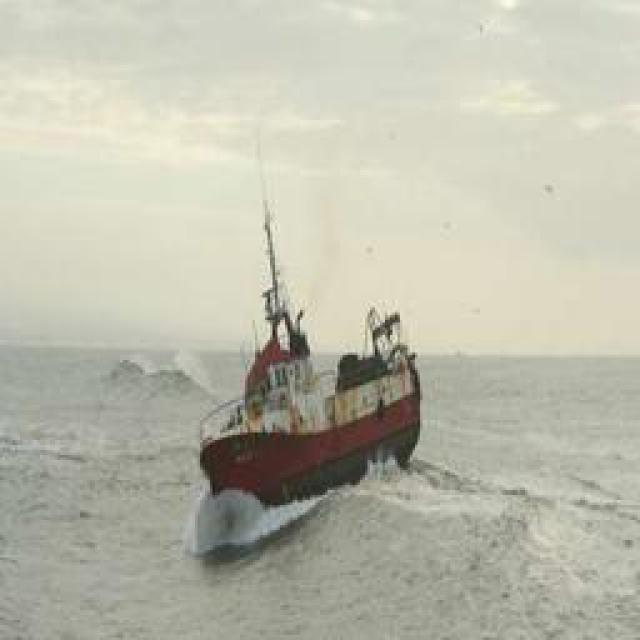Ship: (191, 172, 424, 555)
